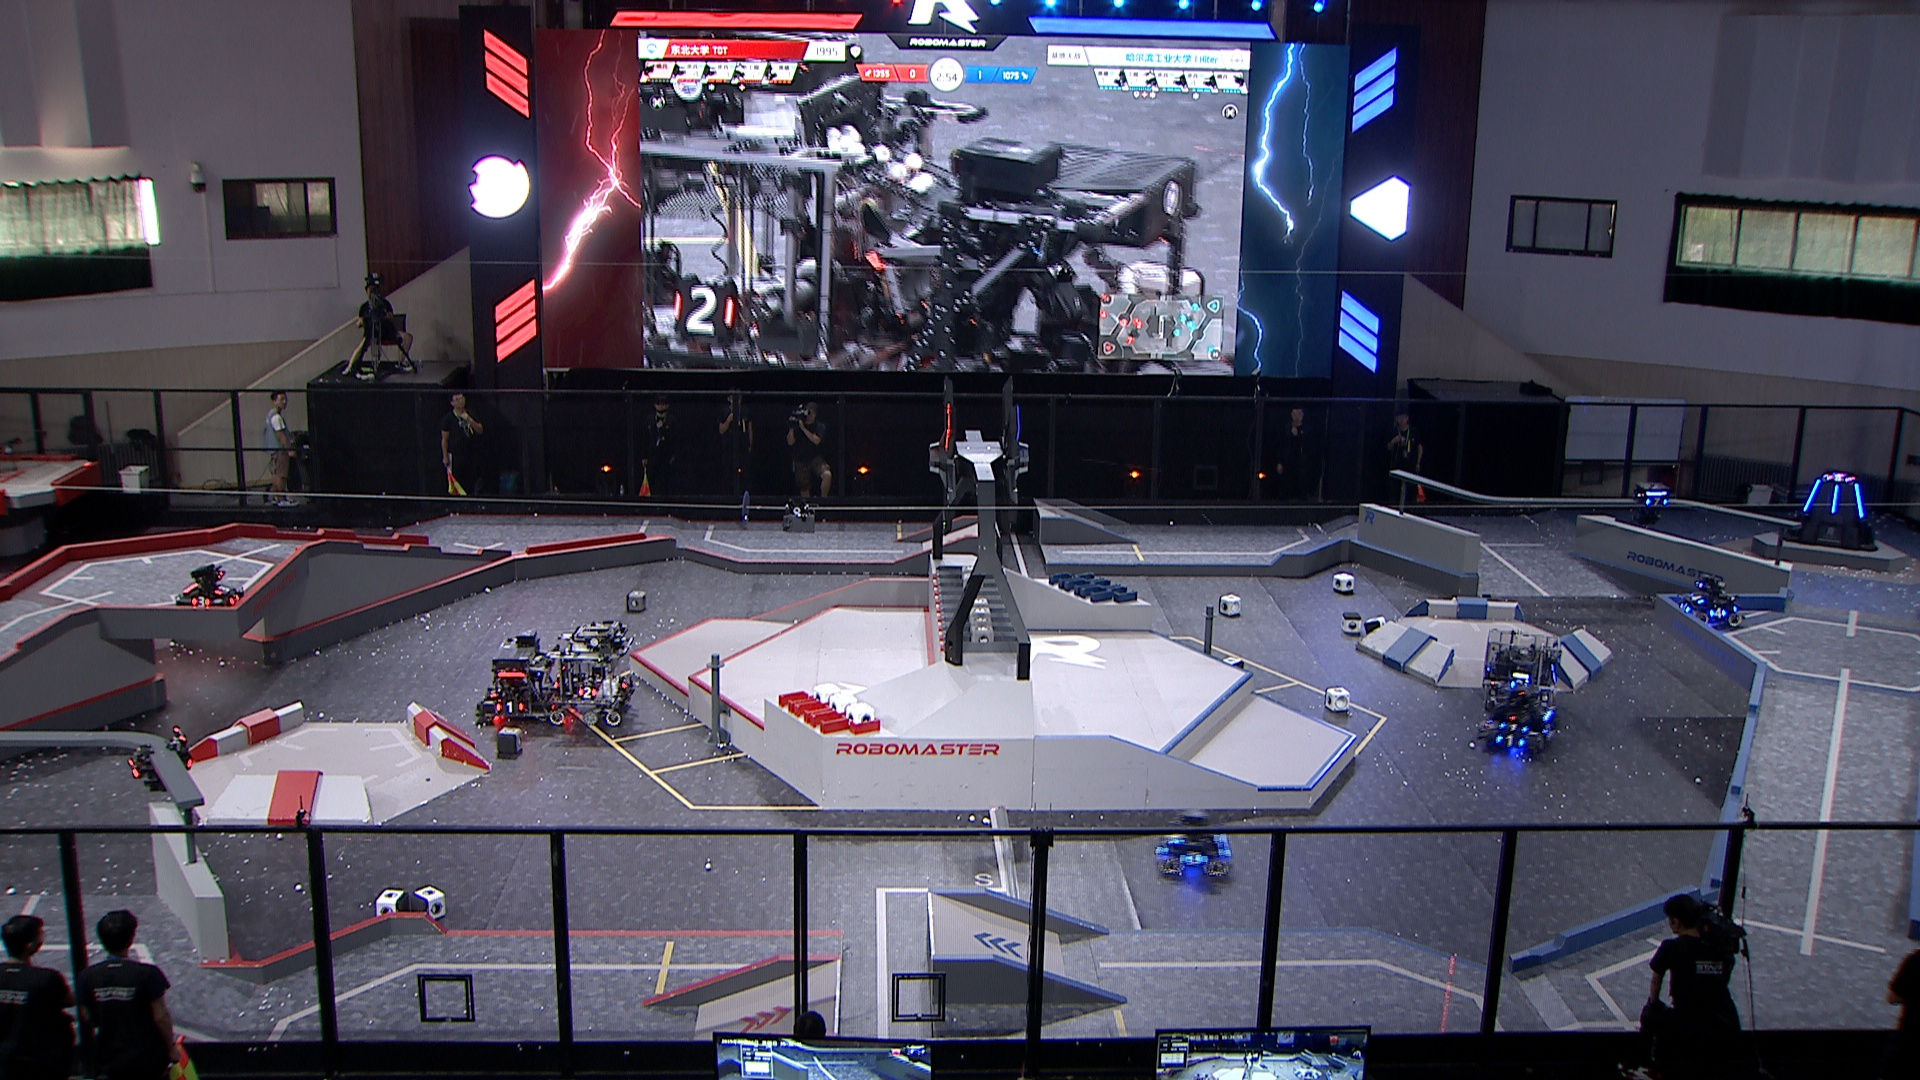armor: (1179, 847, 1207, 870), (1803, 477, 1822, 510), (495, 698, 526, 717), (1495, 732, 1527, 752), (1849, 481, 1865, 518), (1495, 717, 1531, 733), (1166, 825, 1187, 849), (123, 757, 142, 782), (575, 683, 600, 702), (1704, 603, 1727, 621), (1828, 483, 1841, 516), (189, 593, 212, 609), (1676, 597, 1695, 617), (212, 579, 231, 597), (1644, 495, 1669, 508), (224, 589, 243, 607), (1688, 589, 1706, 605)
base: (1778, 469, 1880, 553)
car: (1472, 626, 1567, 756), (539, 618, 638, 732), (473, 632, 562, 727), (1149, 807, 1244, 885), (1669, 576, 1750, 632), (173, 560, 247, 613)
ignore: (645, 76, 956, 373), (928, 133, 1203, 376), (1825, 469, 1855, 484)
watcher: (121, 723, 196, 798), (1629, 476, 1675, 527)
